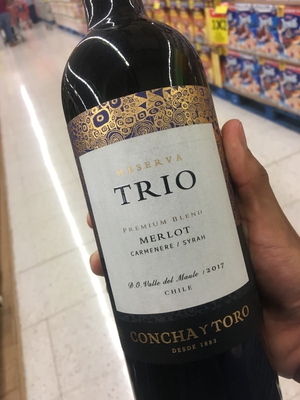trio merlot: (62, 20, 282, 400)
